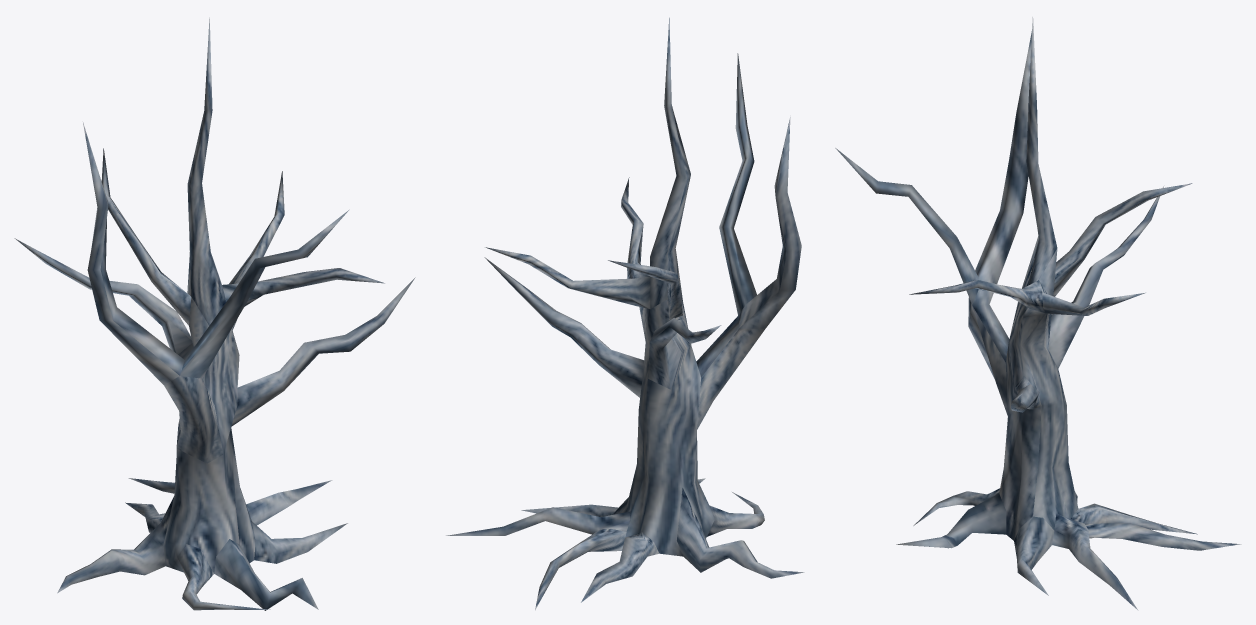
File: tree05.fbx
3 views of the same model, side by side, from view 1: azimuth 30°, elevation 25°; view 2: azimuth 150°, elevation 25°; view 3: azimuth 270°, elevation 25° (orthographic). The views are drawn at different scales.
Visible parts, largest first — view 1: tree05; view 2: tree05; view 3: tree05.
Boxes of the visible parts, x1,y1,x2,y2 form: tree05: (14, 17, 415, 610); tree05: (446, 17, 804, 610); tree05: (835, 17, 1241, 610).
Bounding box in the file's own units: 1242 × 1928 × 1344.
Materials: 1 (1 with a texture image).
